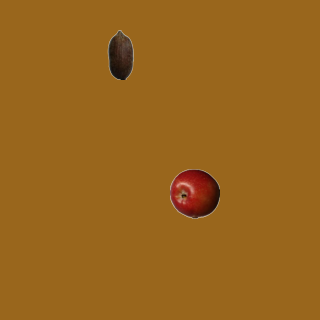Apple Braeburn: (169, 168, 219, 218)
Nut Pecan: (95, 29, 145, 79)
